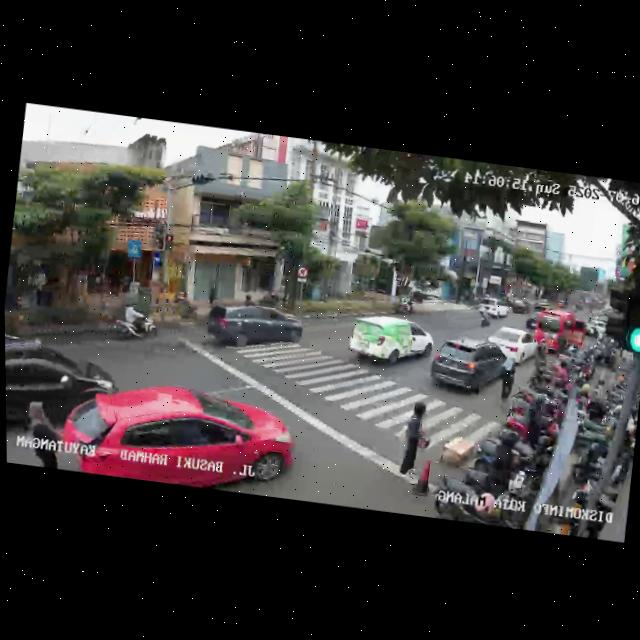car: (63, 372, 300, 499), (5, 336, 122, 453), (202, 297, 306, 361), (425, 335, 516, 402), (345, 310, 435, 374), (483, 321, 543, 368), (533, 307, 589, 357), (477, 295, 512, 323)
motorcycle: (106, 297, 161, 346), (477, 302, 492, 328)
person: (17, 394, 69, 470), (394, 403, 427, 485), (492, 350, 521, 414)
